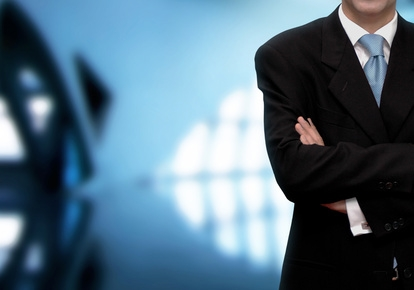tie: (350, 30, 396, 109)
